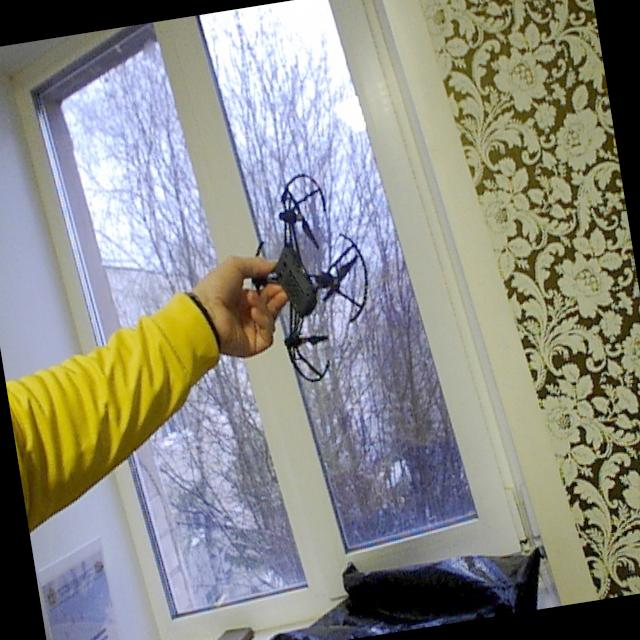drone: (214, 152, 390, 400)
